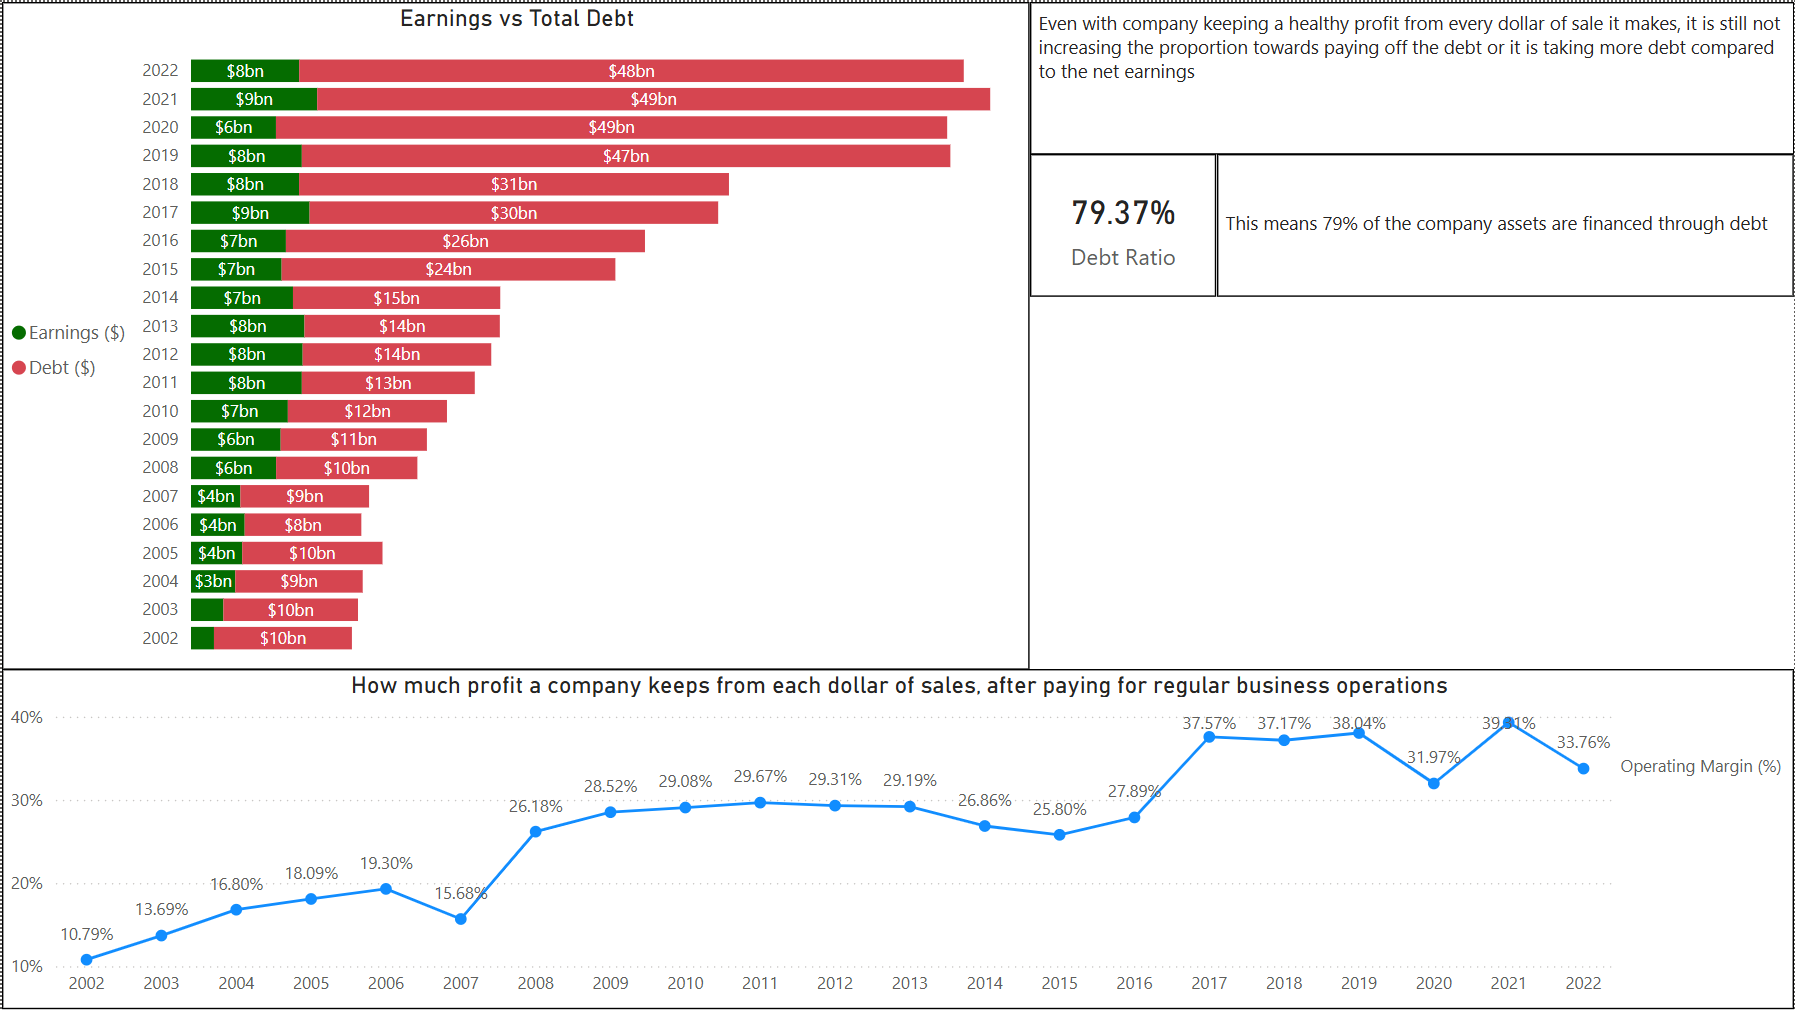

This screenshot's page, from the dashboard's own definition file:
{"tool":"powerbi","page":{"name":"Earnings vs Debt","canvas":[1280,720],"ordinal":4},"visuals":[{"type":"barChart","title":"Earnings vs Total Debt","fields":{"Category":["MCD.Date.Variation.Date Hierarchy.Year"],"Y":["Sum(MCD.Earnings ($))","Sum(MCD.Total debt ($))"]},"box":[0,0,734,476.7],"z":0},{"type":"lineChart","title":"How much profit a company keeps from each dollar of sales, after paying for regular business operations","fields":{"Y":["Sum(MCD.Operating Margin (%))"],"Category":["MCD.Date.Variation.Date Hierarchy.Year"]},"box":[0,476.7,1280,243.3],"z":1},{"type":"textbox","box":[734,0,546,108.7],"z":2},{"type":"card","fields":{"Values":["Table.Debt Ratio"]},"box":[734.4,108.9,133.3,102.2],"z":3},{"type":"textbox","box":[867.8,108.9,412.2,102.2],"z":4}]}

Visuals, with their boxes in screenshot pixels (x1, y1, x2, y2), scaled from the page's 1280x720 canvas onto the 1795x1010 screenshot:
"Earnings vs Total Debt" barChart: region(0, 0, 1029, 669)
"How much profit a company keeps from each dollar of sales, after paying for regular business operations" lineChart: region(0, 669, 1794, 1009)
textbox: region(1029, 0, 1794, 152)
card - Table.Debt Ratio: region(1030, 153, 1217, 296)
textbox: region(1217, 153, 1794, 296)
